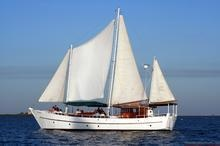fanchuan: (26, 6, 180, 132)
